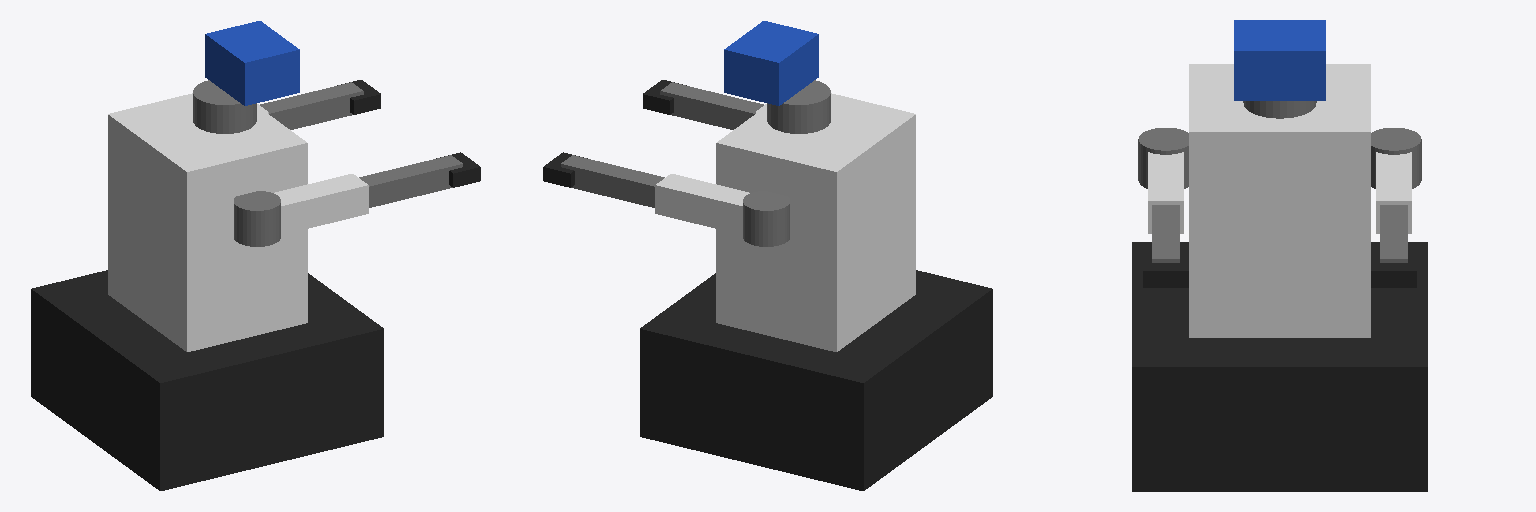
URDF robot description (pr2):
<?xml version="1.0"?>
<!-- Simplified PR2 (primitives only, no external meshes) for Autoviz RobotModel demo. -->
<robot name="pr2">
  <material name="white"><color rgba="0.9 0.9 0.9 1"/></material>
  <material name="grey"><color rgba="0.5 0.5 0.5 1"/></material>
  <material name="dark"><color rgba="0.2 0.2 0.2 1"/></material>
  <material name="blue"><color rgba="0.2 0.4 0.8 1"/></material>

  <link name="base_link">
    <visual>
      <origin xyz="0 0 0.15"/>
      <geometry><box size="0.65 0.65 0.30"/></geometry>
      <material name="dark"/>
    </visual>
  </link>

  <link name="torso_lift_link">
    <visual>
      <origin xyz="0 0 0.25"/>
      <geometry><box size="0.35 0.40 0.50"/></geometry>
      <material name="white"/>
    </visual>
  </link>
  <joint name="torso_lift_joint" type="prismatic">
    <parent link="base_link"/>
    <child link="torso_lift_link"/>
    <origin xyz="0 0 0.30"/>
    <axis xyz="0 0 1"/>
    <limit lower="0" upper="0.30" effort="100" velocity="0.1"/>
  </joint>

  <link name="head_pan_link">
    <visual>
      <geometry><cylinder radius="0.08" length="0.08"/></geometry>
      <material name="grey"/>
    </visual>
  </link>
  <joint name="head_pan_joint" type="revolute">
    <parent link="torso_lift_link"/>
    <child link="head_pan_link"/>
    <origin xyz="0.05 0 0.55"/>
    <axis xyz="0 0 1"/>
    <limit lower="-2.8" upper="2.8" effort="10" velocity="1"/>
  </joint>

  <link name="head_tilt_link">
    <visual>
      <origin xyz="0.08 0 0.05"/>
      <geometry><box size="0.16 0.20 0.12"/></geometry>
      <material name="blue"/>
    </visual>
  </link>
  <joint name="head_tilt_joint" type="revolute">
    <parent link="head_pan_link"/>
    <child link="head_tilt_link"/>
    <origin xyz="0 0 0.05"/>
    <axis xyz="0 1 0"/>
    <limit lower="-0.5" upper="1.0" effort="10" velocity="1"/>
  </joint>

  <!-- Left arm -->
  <link name="l_shoulder_pan_link">
    <visual>
      <geometry><cylinder radius="0.06" length="0.10"/></geometry>
      <material name="grey"/>
    </visual>
  </link>
  <joint name="l_shoulder_pan_joint" type="revolute">
    <parent link="torso_lift_link"/>
    <child link="l_shoulder_pan_link"/>
    <origin xyz="0 0.25 0.35" rpy="0 0 0"/>
    <axis xyz="0 0 1"/>
    <limit lower="-2.0" upper="2.0" effort="30" velocity="1"/>
  </joint>

  <link name="l_upper_arm_link">
    <visual>
      <origin xyz="0.15 0 0"/>
      <geometry><box size="0.30 0.08 0.08"/></geometry>
      <material name="white"/>
    </visual>
  </link>
  <joint name="l_shoulder_lift_joint" type="revolute">
    <parent link="l_shoulder_pan_link"/>
    <child link="l_upper_arm_link"/>
    <origin xyz="0 0 0"/>
    <axis xyz="0 1 0"/>
    <limit lower="-0.5" upper="1.4" effort="30" velocity="1"/>
  </joint>

  <link name="l_forearm_link">
    <visual>
      <origin xyz="0.14 0 0"/>
      <geometry><box size="0.28 0.06 0.06"/></geometry>
      <material name="grey"/>
    </visual>
  </link>
  <joint name="l_elbow_flex_joint" type="revolute">
    <parent link="l_upper_arm_link"/>
    <child link="l_forearm_link"/>
    <origin xyz="0.30 0 0"/>
    <axis xyz="0 1 0"/>
    <limit lower="-2.0" upper="0.0" effort="20" velocity="1"/>
  </joint>

  <link name="l_gripper_link">
    <visual>
      <geometry><box size="0.08 0.10 0.04"/></geometry>
      <material name="dark"/>
    </visual>
  </link>
  <joint name="l_wrist_flex_joint" type="revolute">
    <parent link="l_forearm_link"/>
    <child link="l_gripper_link"/>
    <origin xyz="0.28 0 0"/>
    <axis xyz="0 1 0"/>
    <limit lower="-1.5" upper="1.5" effort="10" velocity="1"/>
  </joint>

  <!-- Right arm (mirrored) -->
  <link name="r_shoulder_pan_link">
    <visual>
      <geometry><cylinder radius="0.06" length="0.10"/></geometry>
      <material name="grey"/>
    </visual>
  </link>
  <joint name="r_shoulder_pan_joint" type="revolute">
    <parent link="torso_lift_link"/>
    <child link="r_shoulder_pan_link"/>
    <origin xyz="0 -0.25 0.35"/>
    <axis xyz="0 0 1"/>
    <limit lower="-2.0" upper="2.0" effort="30" velocity="1"/>
  </joint>

  <link name="r_upper_arm_link">
    <visual>
      <origin xyz="0.15 0 0"/>
      <geometry><box size="0.30 0.08 0.08"/></geometry>
      <material name="white"/>
    </visual>
  </link>
  <joint name="r_shoulder_lift_joint" type="revolute">
    <parent link="r_shoulder_pan_link"/>
    <child link="r_upper_arm_link"/>
    <origin xyz="0 0 0"/>
    <axis xyz="0 1 0"/>
    <limit lower="-0.5" upper="1.4" effort="30" velocity="1"/>
  </joint>

  <link name="r_forearm_link">
    <visual>
      <origin xyz="0.14 0 0"/>
      <geometry><box size="0.28 0.06 0.06"/></geometry>
      <material name="grey"/>
    </visual>
  </link>
  <joint name="r_elbow_flex_joint" type="revolute">
    <parent link="r_upper_arm_link"/>
    <child link="r_forearm_link"/>
    <origin xyz="0.30 0 0"/>
    <axis xyz="0 1 0"/>
    <limit lower="-2.0" upper="0.0" effort="20" velocity="1"/>
  </joint>

  <link name="r_gripper_link">
    <visual>
      <geometry><box size="0.08 0.10 0.04"/></geometry>
      <material name="dark"/>
    </visual>
  </link>
  <joint name="r_wrist_flex_joint" type="revolute">
    <parent link="r_forearm_link"/>
    <child link="r_gripper_link"/>
    <origin xyz="0.28 0 0"/>
    <axis xyz="0 1 0"/>
    <limit lower="-1.5" upper="1.5" effort="10" velocity="1"/>
  </joint>
</robot>

--- Facts derived from the render (not from the file) ---
Views: 3 orthographic renders of the robot side by side, from view 1: azimuth 30°, elevation 25°; view 2: azimuth 150°, elevation 25°; view 3: azimuth 270°, elevation 25°.
Robot: pr2 — 12 links, 11 joints (10 revolute, 1 prismatic); root link base_link; default pose: all joints at 0.
Visible links, largest first — view 1: base_link, torso_lift_link, head_tilt_link, r_upper_arm_link, r_forearm_link, l_forearm_link, head_pan_link, r_shoulder_pan_link, r_gripper_link, l_gripper_link; view 2: base_link, torso_lift_link, head_tilt_link, l_upper_arm_link, l_forearm_link, r_forearm_link, head_pan_link, l_shoulder_pan_link, l_gripper_link, r_gripper_link; view 3: base_link, torso_lift_link, head_tilt_link, l_upper_arm_link, r_upper_arm_link, l_shoulder_pan_link, r_shoulder_pan_link, l_forearm_link, r_forearm_link, l_gripper_link, r_gripper_link, head_pan_link.
Boxes of the visible links, left/top/right/bottom form: base_link: left=31, top=270, right=383, bottom=490; torso_lift_link: left=108, top=93, right=307, bottom=351; head_tilt_link: left=205, top=21, right=299, bottom=105; r_upper_arm_link: left=274, top=174, right=368, bottom=234; r_forearm_link: left=359, top=155, right=462, bottom=207; l_forearm_link: left=260, top=82, right=363, bottom=129; head_pan_link: left=193, top=80, right=256, bottom=133; r_shoulder_pan_link: left=234, top=191, right=280, bottom=246; r_gripper_link: left=436, top=152, right=480, bottom=187; l_gripper_link: left=337, top=80, right=380, bottom=114; base_link: left=640, top=270, right=992, bottom=490; torso_lift_link: left=716, top=93, right=915, bottom=351; head_tilt_link: left=724, top=21, right=818, bottom=105; l_upper_arm_link: left=655, top=174, right=749, bottom=234; l_forearm_link: left=561, top=155, right=664, bottom=207; r_forearm_link: left=660, top=82, right=763, bottom=129; head_pan_link: left=767, top=80, right=830, bottom=133; l_shoulder_pan_link: left=743, top=191, right=789, bottom=246; l_gripper_link: left=543, top=152, right=587, bottom=187; r_gripper_link: left=643, top=80, right=686, bottom=114; base_link: left=1132, top=242, right=1427, bottom=491; torso_lift_link: left=1189, top=64, right=1370, bottom=337; head_tilt_link: left=1234, top=20, right=1325, bottom=100; l_upper_arm_link: left=1376, top=152, right=1411, bottom=233; r_upper_arm_link: left=1148, top=152, right=1183, bottom=233; l_shoulder_pan_link: left=1371, top=128, right=1421, bottom=188; r_shoulder_pan_link: left=1138, top=128, right=1188, bottom=188; l_forearm_link: left=1380, top=205, right=1407, bottom=262; r_forearm_link: left=1152, top=205, right=1179, bottom=262; l_gripper_link: left=1371, top=256, right=1416, bottom=287; r_gripper_link: left=1143, top=256, right=1188, bottom=287; head_pan_link: left=1243, top=101, right=1316, bottom=118.
Size in the robot's own frame: 0.945 by 0.65 by 1.01 metres.
Geometry: primitives only (box / cylinder / sphere), no mesh files.
